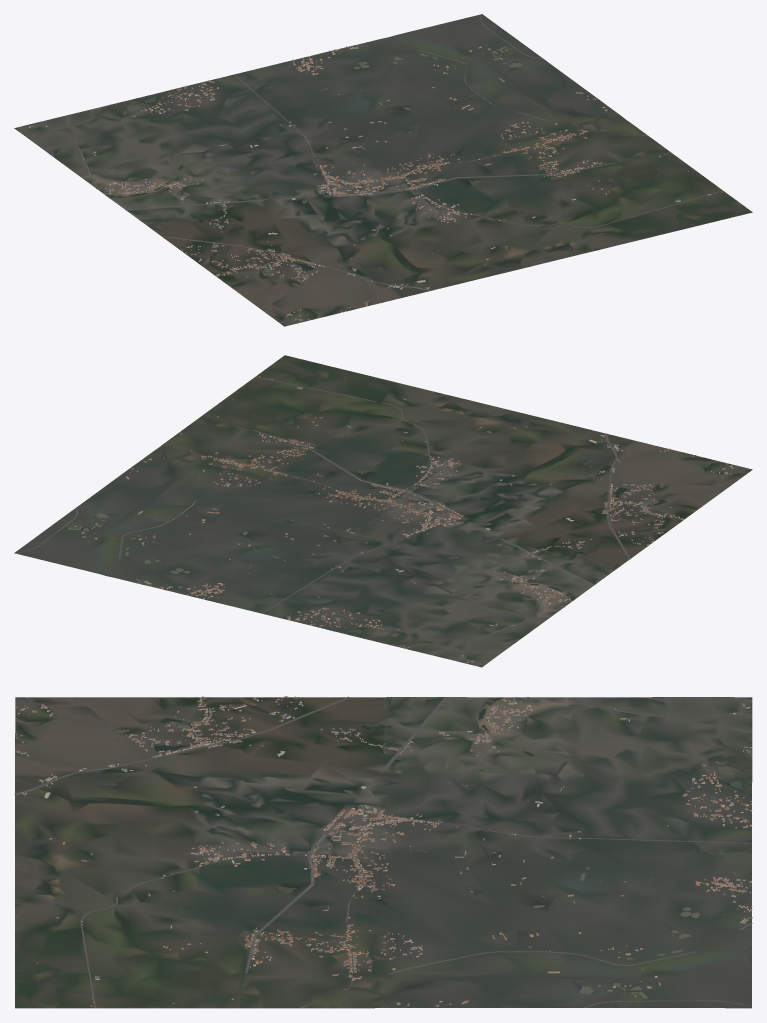
The picture shows the model from 3 angles, top to bottom: view 1: azimuth 30°, elevation 25°; view 2: azimuth 150°, elevation 25°; view 3: azimuth 270°, elevation 25°; orthographic projection. The views are drawn at different scales.
Visible parts, largest first — view 1: ground, buildings, roads, water; view 2: ground, buildings, roads, water; view 3: ground, buildings, roads, water.
Boxes of the visible parts, left/top/right/bottom form: ground: left=14, top=14, right=752, bottom=326; buildings: left=28, top=46, right=722, bottom=322; roads: left=66, top=14, right=723, bottom=290; water: left=73, top=46, right=680, bottom=286; ground: left=14, top=355, right=752, bottom=667; buildings: left=69, top=375, right=736, bottom=662; roads: left=16, top=376, right=630, bottom=654; water: left=68, top=398, right=666, bottom=638; ground: left=15, top=697, right=752, bottom=1008; buildings: left=15, top=696, right=752, bottom=1006; roads: left=14, top=696, right=752, bottom=1008; water: left=32, top=697, right=742, bottom=998.
Size of the model in its own units: 5614 by 30.54 by 5622.
